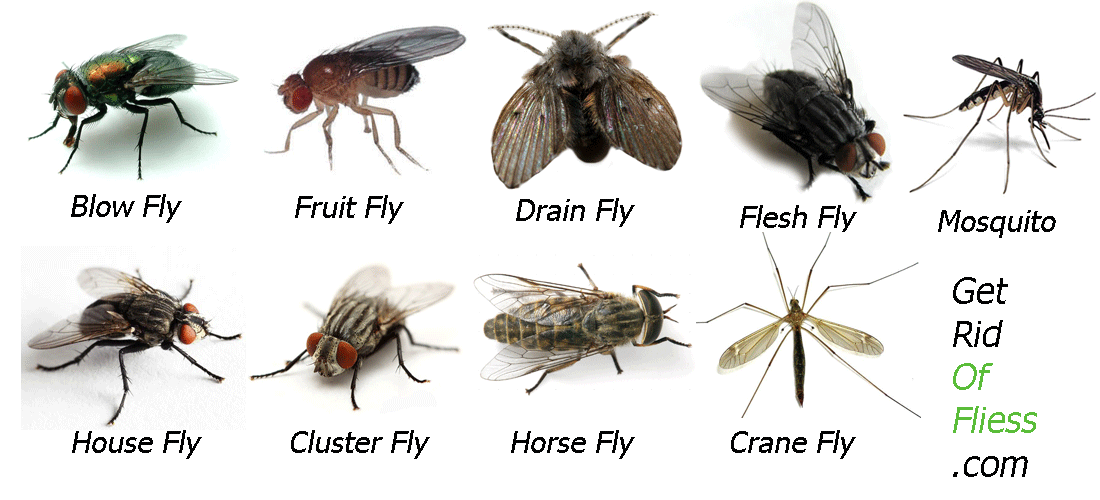fly: (476, 1, 702, 202), (703, 1, 914, 213), (269, 15, 475, 182), (10, 245, 223, 402), (25, 23, 228, 186)
